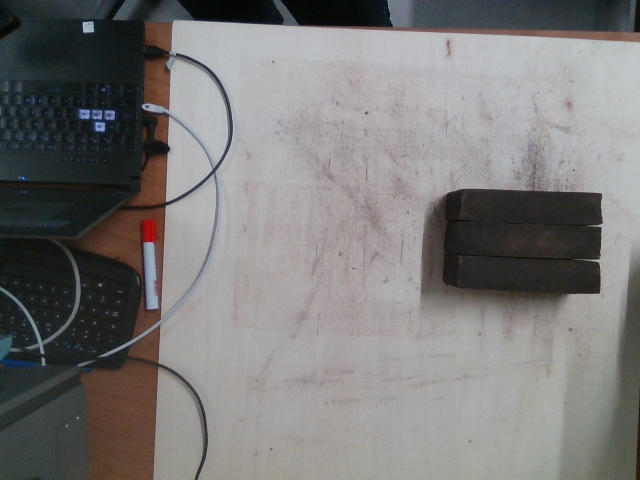brick-side: (460, 256, 597, 294), (462, 189, 599, 226), (459, 222, 595, 259)
